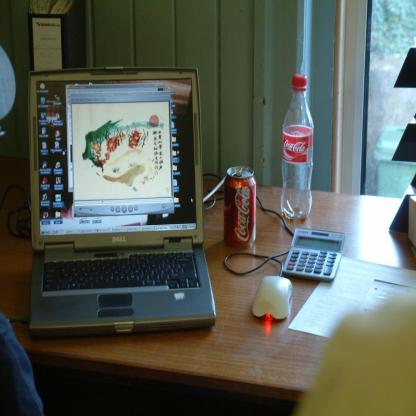board: (23, 61, 218, 338), (282, 74, 312, 225), (226, 166, 255, 248)
